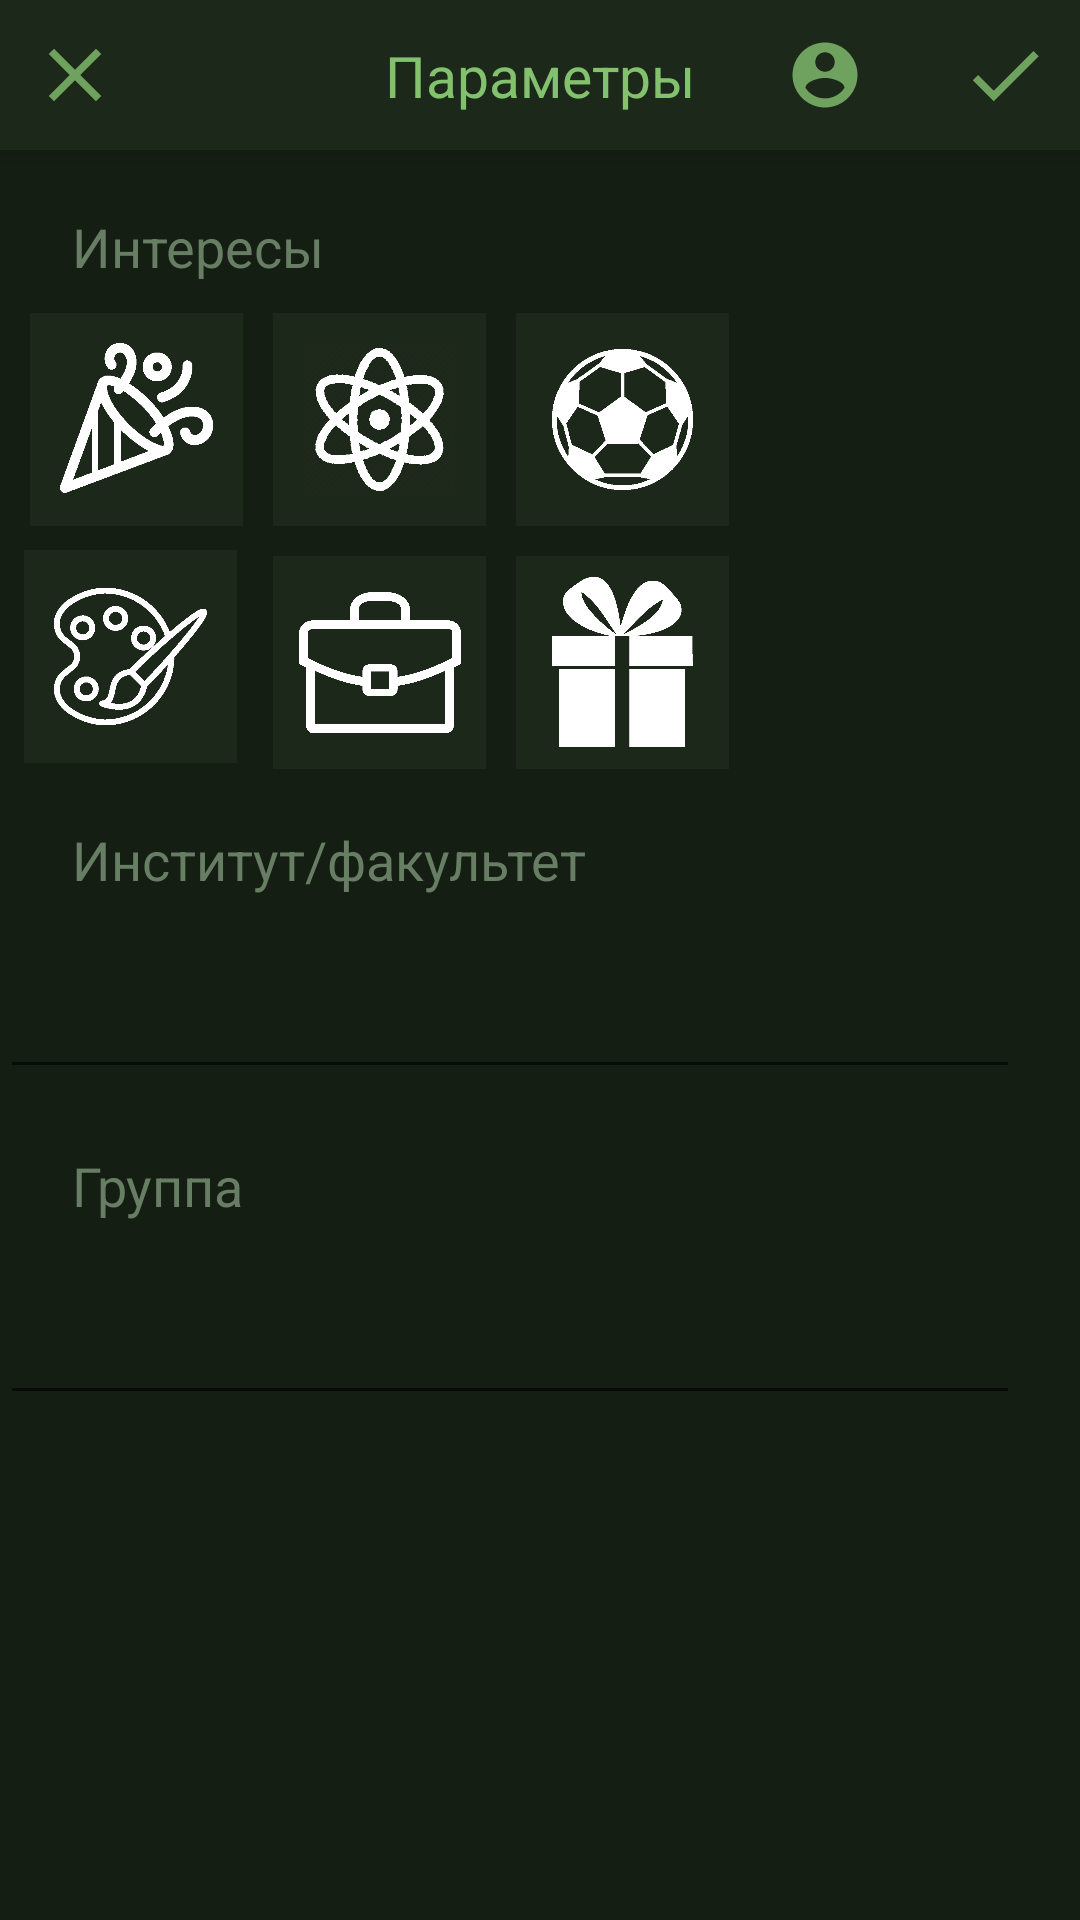

Where to tap for icons on this 1080px×1920px app screen, as (x=x, y=y):
art: (x=130, y=656)
check: (x=1006, y=76)
close: (x=75, y=75)
login: (x=825, y=75)
party: (x=136, y=419)
science: (x=379, y=419)
sport: (x=622, y=419)
work: (x=379, y=662)
